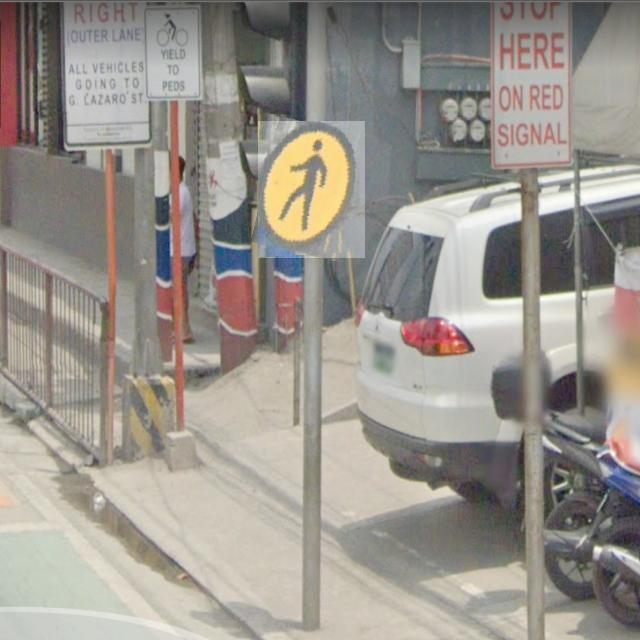pedestrian crossing: (258, 121, 365, 258)
